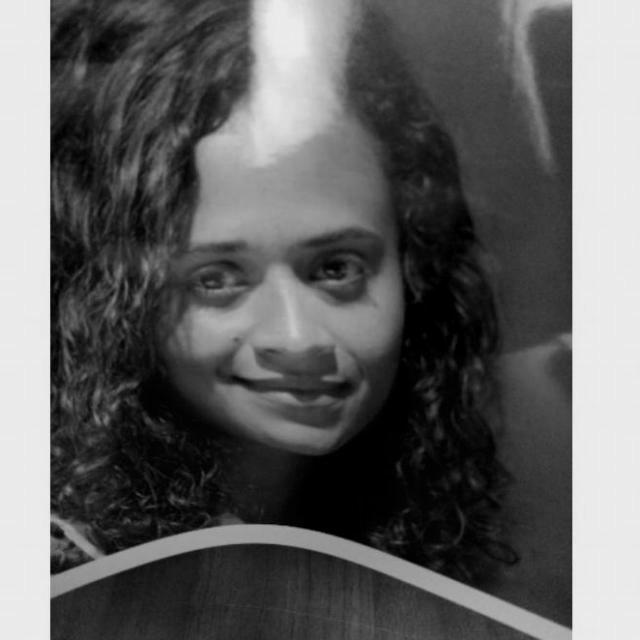fake: (52, 0, 568, 615)
